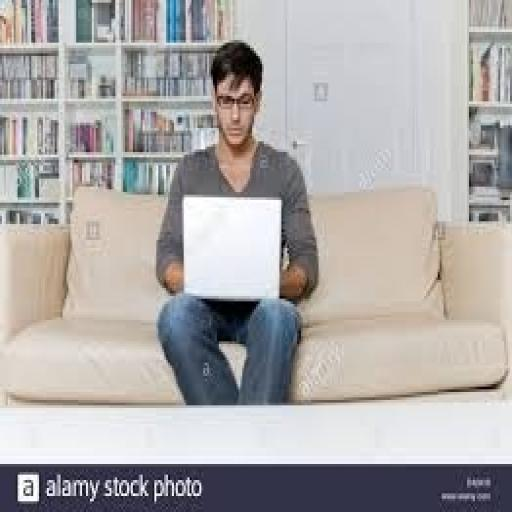using_laptop: (180, 192, 283, 301)
